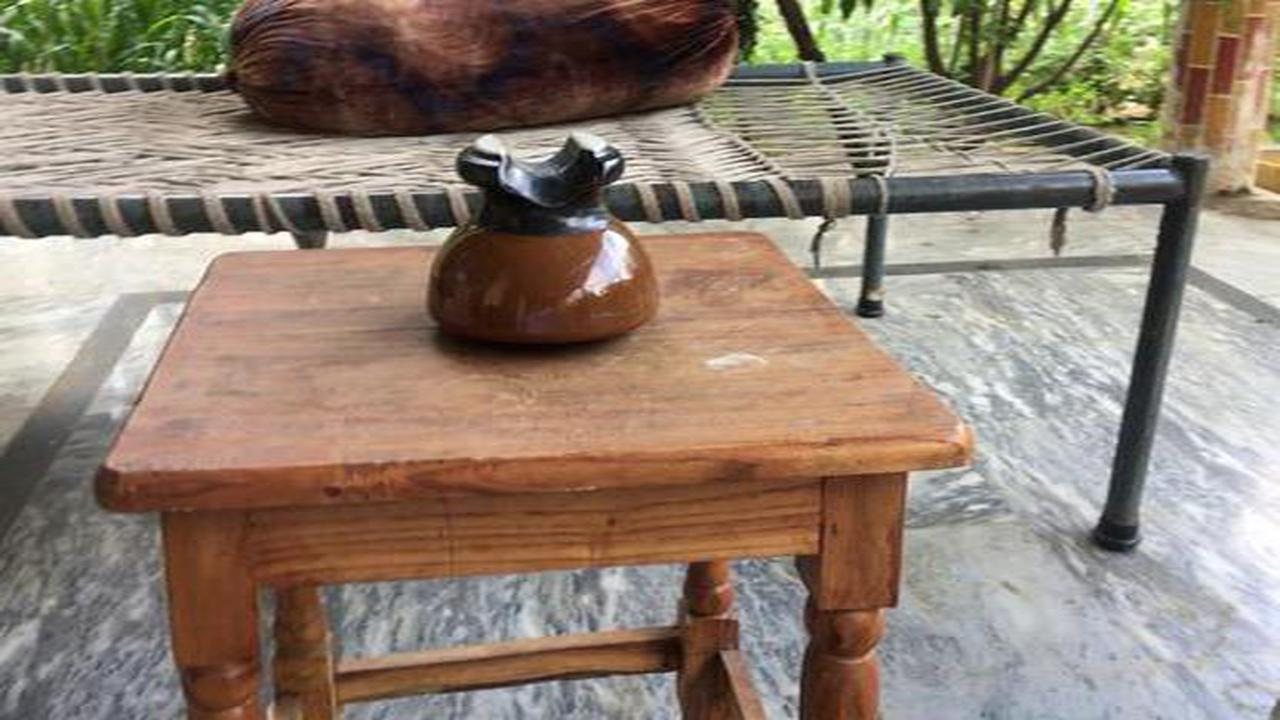insulator_pin: (413, 115, 674, 371)
